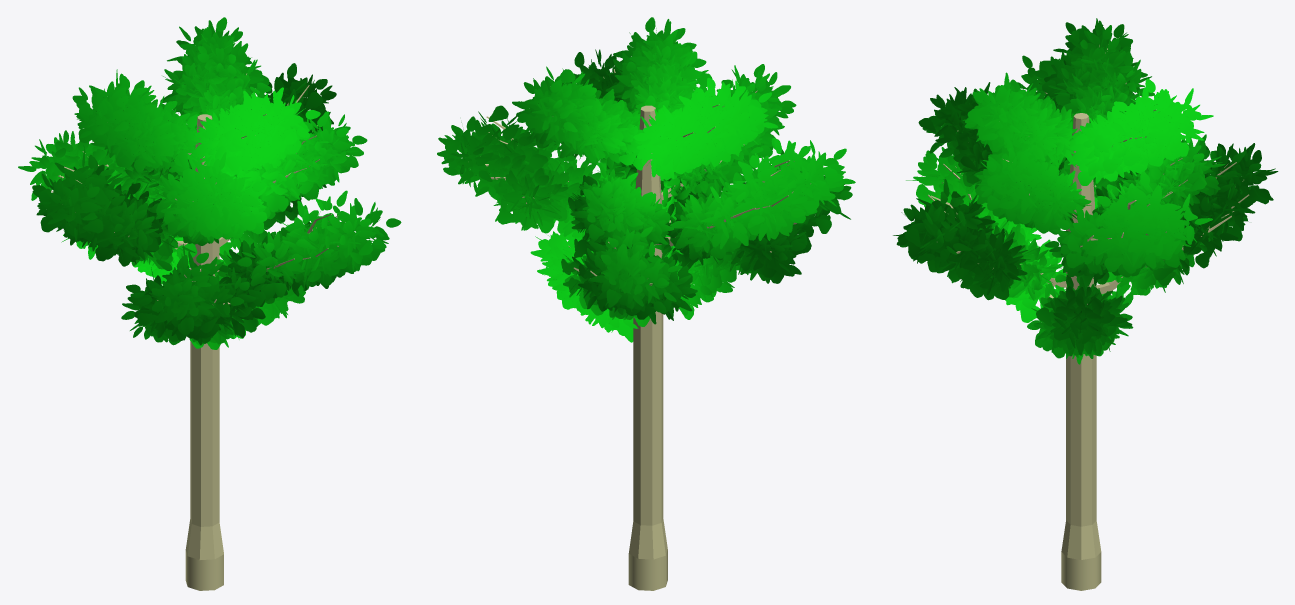
Rendered from CaygoiSmall.fbx.
The picture shows the model from 3 angles, left to right: view 1: azimuth 30°, elevation 25°; view 2: azimuth 150°, elevation 25°; view 3: azimuth 270°, elevation 25°; orthographic projection.
Parts seen in each view (by area): view 1: LeafNew.058, Cube; view 2: LeafNew.058, Cube; view 3: LeafNew.058, Cube.
Boxes of the visible parts, x1,y1,x2,y2 form: LeafNew.058: (18, 17, 401, 349); Cube: (51, 73, 338, 590); LeafNew.058: (437, 17, 855, 342); Cube: (485, 69, 810, 590); LeafNew.058: (893, 18, 1278, 364); Cube: (928, 45, 1249, 590).
Size of the model in its own units: 2905 by 4115 by 2801.
Materials: 2 (1 with a texture image).
